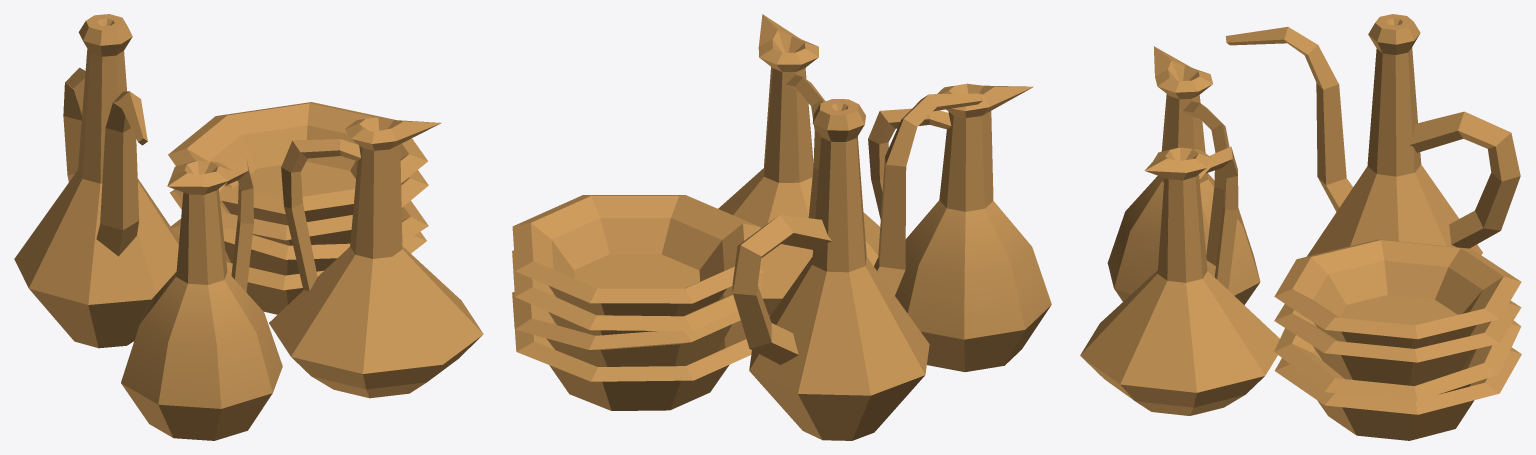
The model's file is SM_Prop_Gold_Plates_Preset_07.fbx.
3 renders of one model, left to right at view 1: azimuth 30°, elevation 25°; view 2: azimuth 150°, elevation 25°; view 3: azimuth 270°, elevation 25°, orthographic. The views are drawn at different scales.
Visible parts, largest first — view 1: SM_Prop_Gold_Plates_Preset_07; view 2: SM_Prop_Gold_Plates_Preset_07; view 3: SM_Prop_Gold_Plates_Preset_07.
Part boxes in pixels (bbox=[...]): SM_Prop_Gold_Plates_Preset_07: bbox=[14, 14, 483, 440]; SM_Prop_Gold_Plates_Preset_07: bbox=[512, 14, 1051, 440]; SM_Prop_Gold_Plates_Preset_07: bbox=[1080, 14, 1521, 440].
Size of the model in its own units: 72.8 by 55.77 by 74.72.
